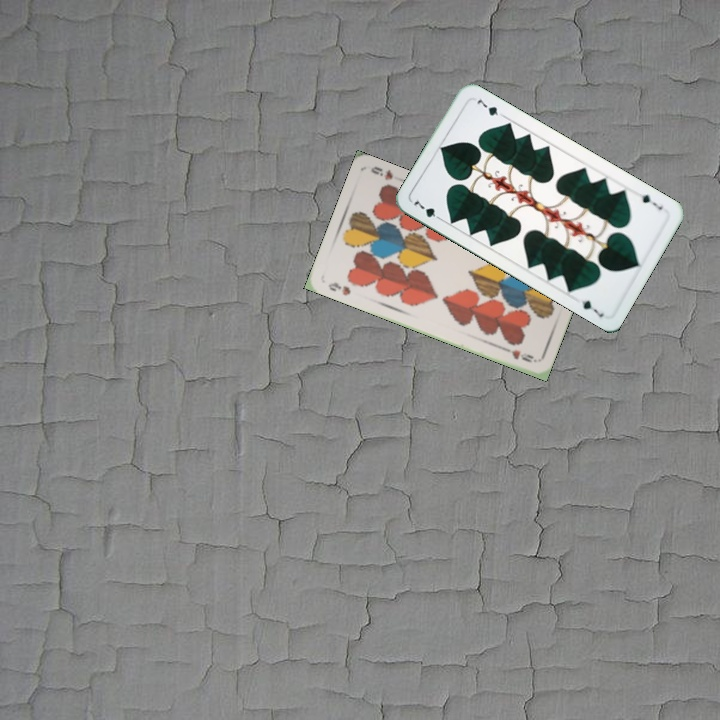G7: (410, 194, 445, 224), (633, 188, 665, 213)
H9: (324, 278, 353, 298)
